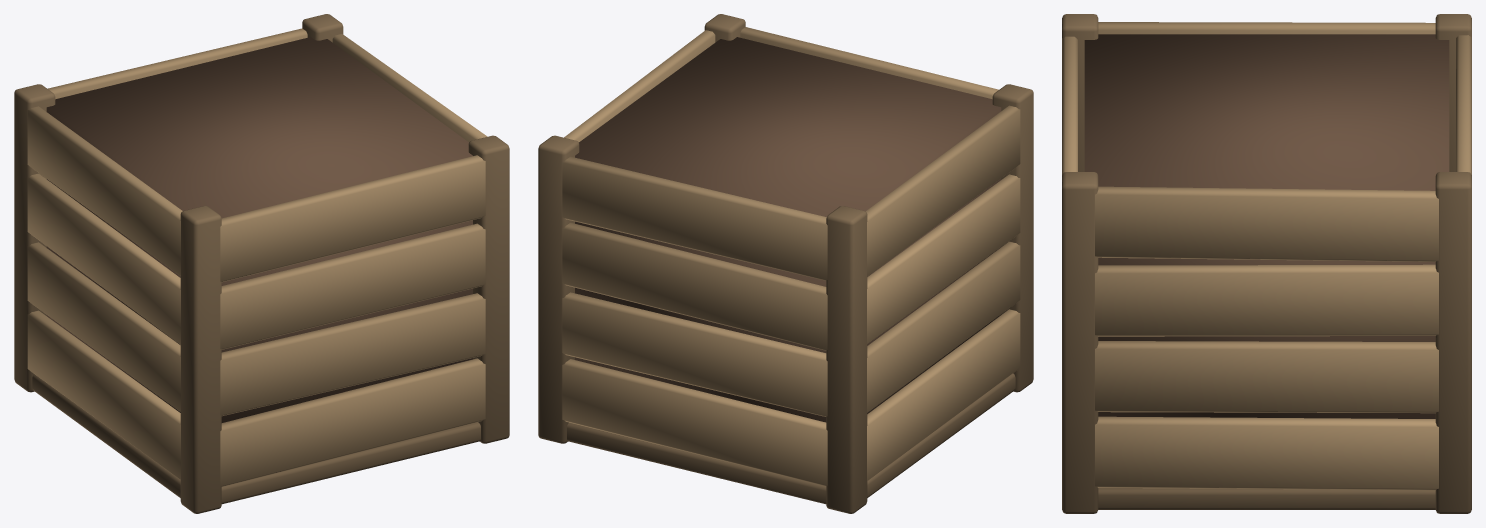
Rendered from crate_l.glb.
3 renders of one model, left to right at view 1: azimuth 30°, elevation 25°; view 2: azimuth 150°, elevation 25°; view 3: azimuth 270°, elevation 25°, orthographic. The views are drawn at different scales.
Parts seen in each view (by area): view 1: Crate_L_Slats, Crate_L_Core, Crate_L_Frame; view 2: Crate_L_Slats, Crate_L_Core, Crate_L_Frame; view 3: Crate_L_Slats, Crate_L_Core, Crate_L_Frame.
Boxes of the visible parts, left/top/right/bottom form: Crate_L_Slats: left=27, top=28, right=487, bottom=486; Crate_L_Core: left=46, top=37, right=472, bottom=422; Crate_L_Frame: left=14, top=14, right=509, bottom=513; Crate_L_Slats: left=562, top=27, right=1020, bottom=486; Crate_L_Core: left=575, top=37, right=1001, bottom=422; Crate_L_Frame: left=538, top=14, right=1033, bottom=513; Crate_L_Slats: left=1062, top=22, right=1471, bottom=490; Crate_L_Core: left=1084, top=34, right=1449, bottom=418; Crate_L_Frame: left=1062, top=14, right=1471, bottom=513.
Bounding box in the file's own units: 0.9 × 0.8 × 0.9.
